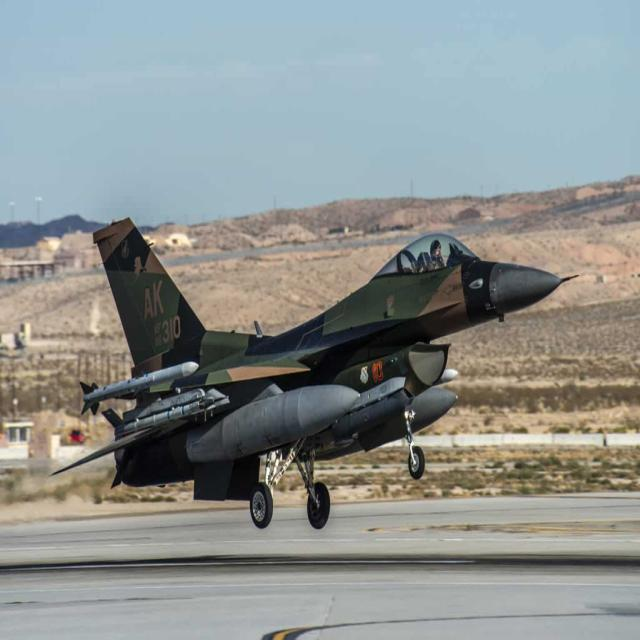MIL_Plane: (48, 216, 580, 530)
